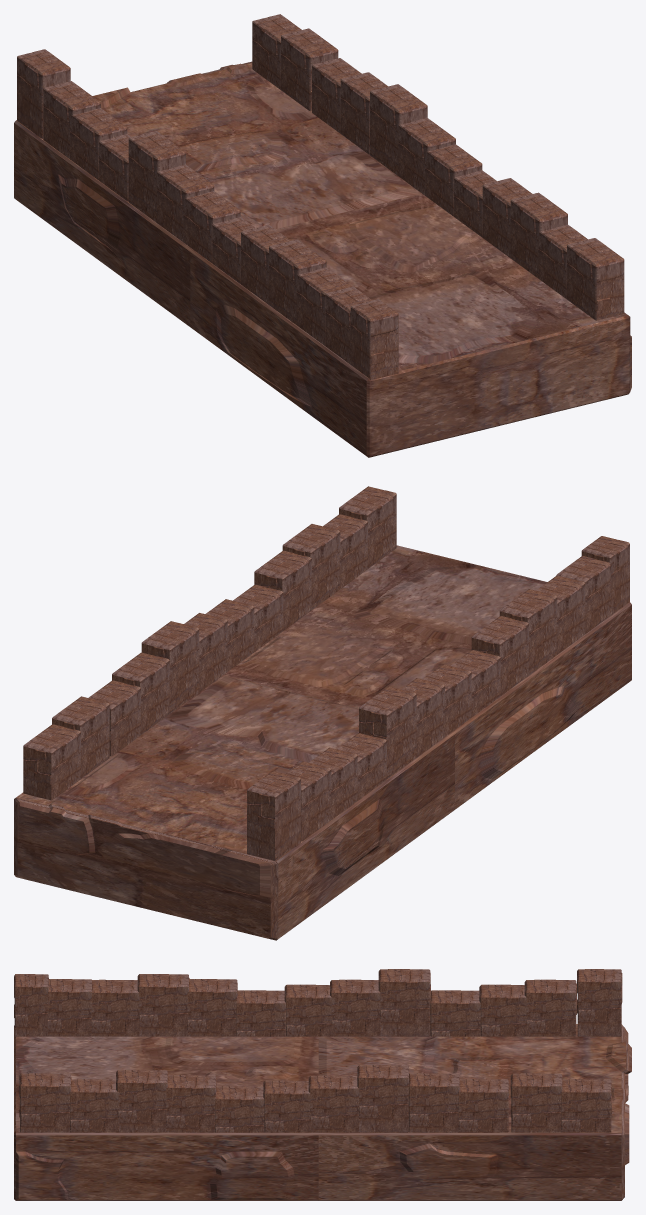
The model's file is Ponte_Pequena.fbx.
3 renders of one model, top to bottom at view 1: azimuth 30°, elevation 25°; view 2: azimuth 150°, elevation 25°; view 3: azimuth 270°, elevation 25°, orthographic. The views are drawn at different scales.
Parts seen in each view (by area): view 1: pCube3, colunas61, colunas63, colunas60, colunas18, colunas29, colunas87, colunas85, colunas55, colunas88, colunas59, colunas20 (+14 smaller); view 2: pCube3, colunas87, colunas86, colunas60, colunas18, colunas28, colunas56, colunas29, colunas55, colunas61, colunas85, colunas19 (+14 smaller); view 3: pCube3, colunas60, colunas18, colunas55, colunas29, colunas85, colunas87, colunas61, colunas19, colunas88, colunas56, colunas28 (+14 smaller).
Boxes of the visible parts, x1,y1,x2,y2 form: pCube3: (14, 61, 631, 457); colunas61: (567, 238, 624, 320); colunas63: (350, 299, 398, 380); colunas60: (128, 131, 185, 222); colunas18: (370, 84, 427, 175); colunas29: (510, 192, 567, 278); colunas87: (17, 49, 70, 138); colunas85: (281, 28, 338, 110); colunas55: (269, 239, 326, 325); colunas88: (43, 81, 100, 159); colunas59: (157, 164, 214, 243); colunas20: (398, 118, 455, 196); pCube3: (14, 545, 631, 940); colunas87: (247, 771, 300, 860); colunas86: (23, 724, 80, 800); colunas60: (359, 686, 416, 778); colunas18: (141, 621, 199, 713); colunas28: (254, 550, 311, 630); colunas56: (471, 616, 528, 695); colunas29: (282, 524, 340, 609); colunas55: (499, 589, 557, 675); colunas61: (339, 486, 396, 568); colunas85: (52, 696, 109, 778); colunas19: (112, 652, 169, 734); pCube3: (14, 1024, 631, 1200); colunas60: (378, 969, 430, 1036); colunas18: (357, 1065, 409, 1132); colunas55: (137, 974, 189, 1036); colunas29: (116, 1070, 168, 1132); colunas85: (510, 1073, 562, 1132); colunas87: (577, 969, 622, 1036); colunas61: (19, 1073, 71, 1132); colunas19: (408, 1073, 459, 1132); colunas88: (524, 979, 576, 1036); colunas56: (187, 979, 237, 1036); colunas28: (166, 1075, 216, 1132).
Size of the model in its own units: 3.34 by 1.7 by 7.69.
Materials: 2 (2 with a texture image).
